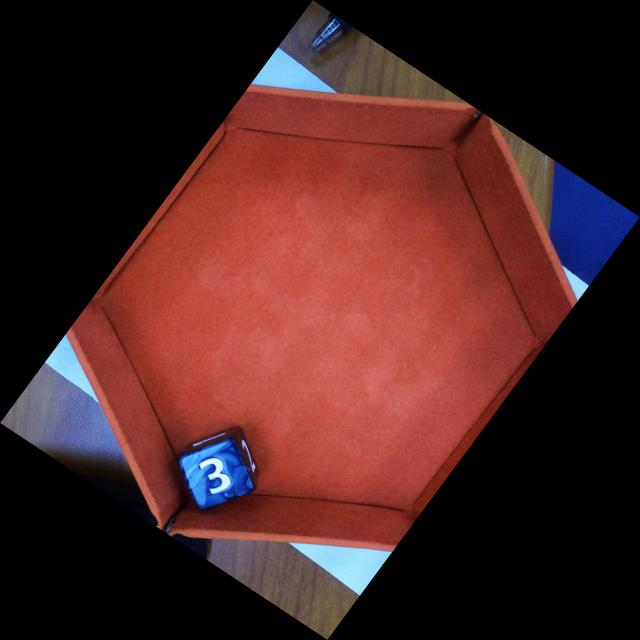dice: (185, 437, 263, 505)
